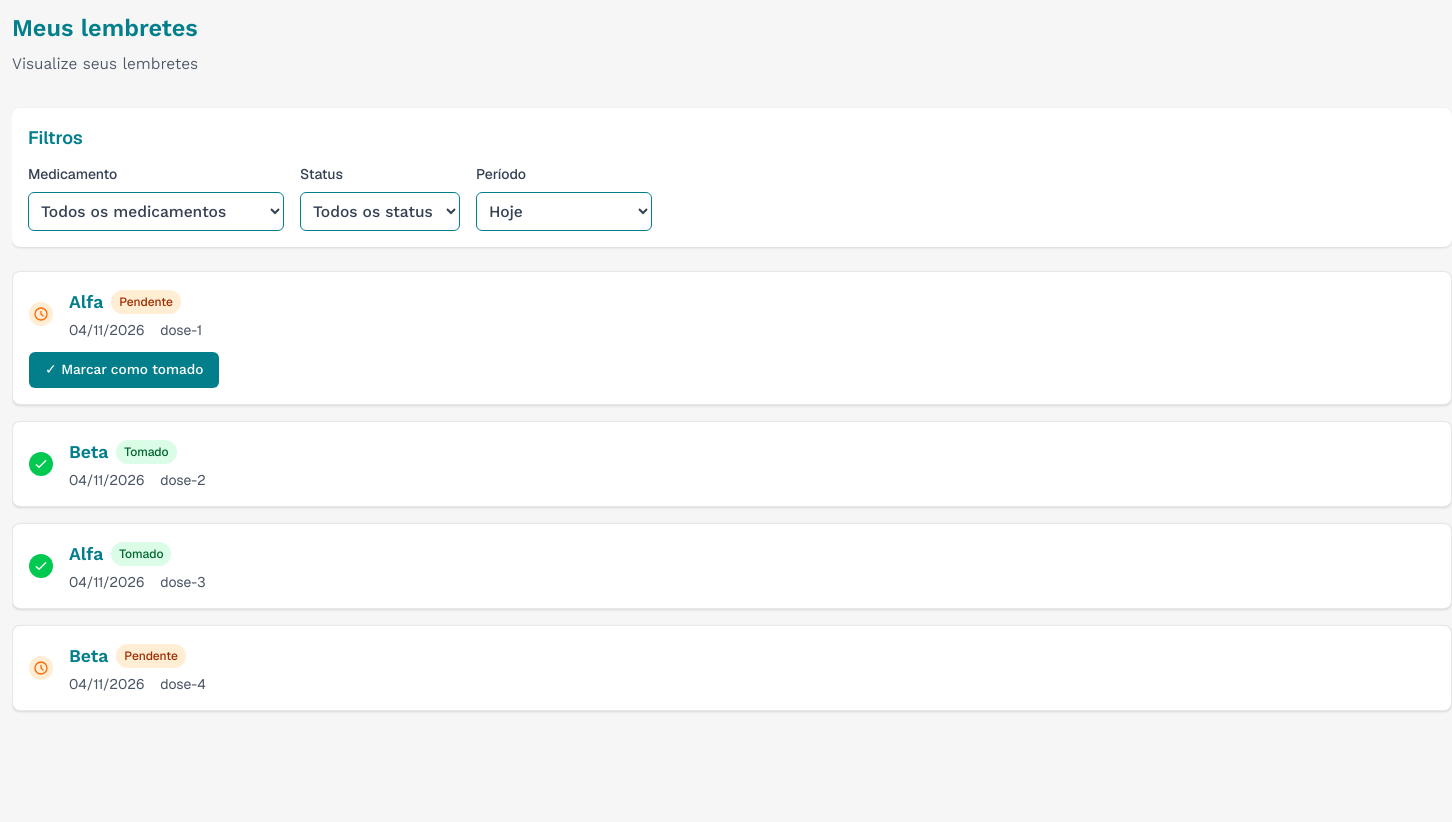
Test: IT-07 TEST-01 TEST-02: lista, filtros e marcar como tomado › IT-07 TEST-02: falha do PUT mostra a mensagem existente e não recarrega
The image size is (1452, 822).
Expected: the heading "Filtros" is shown, [28,126,83,149]
Click the button "✓ Marcar como tomado" at (124, 370), box [29,352,219,388]
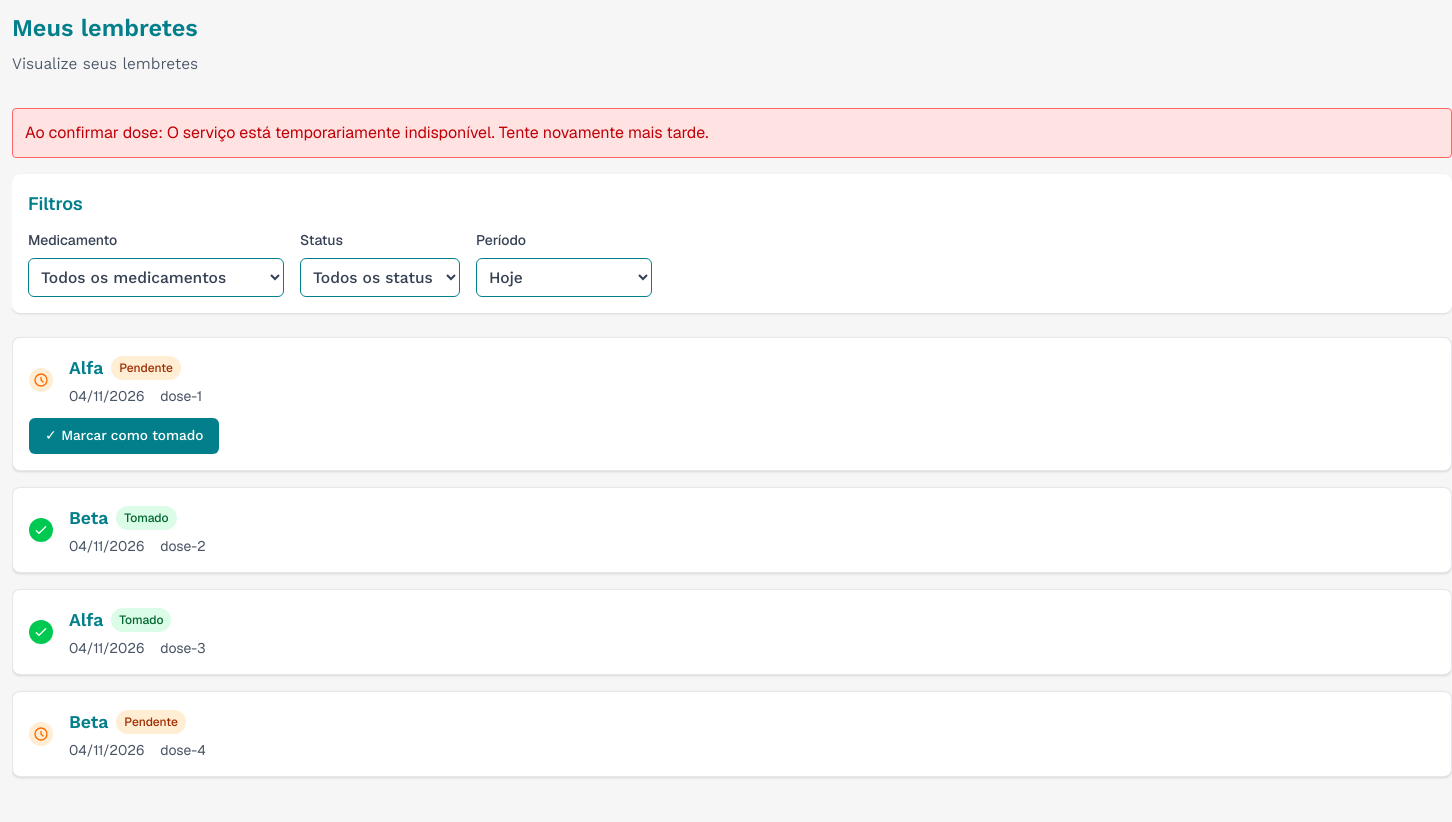
Now the text "Ao confirmar dose: O serviço está temporariamente indisponível. Tente novamente mais tarde." is shown, box [12,108,1451,158]
